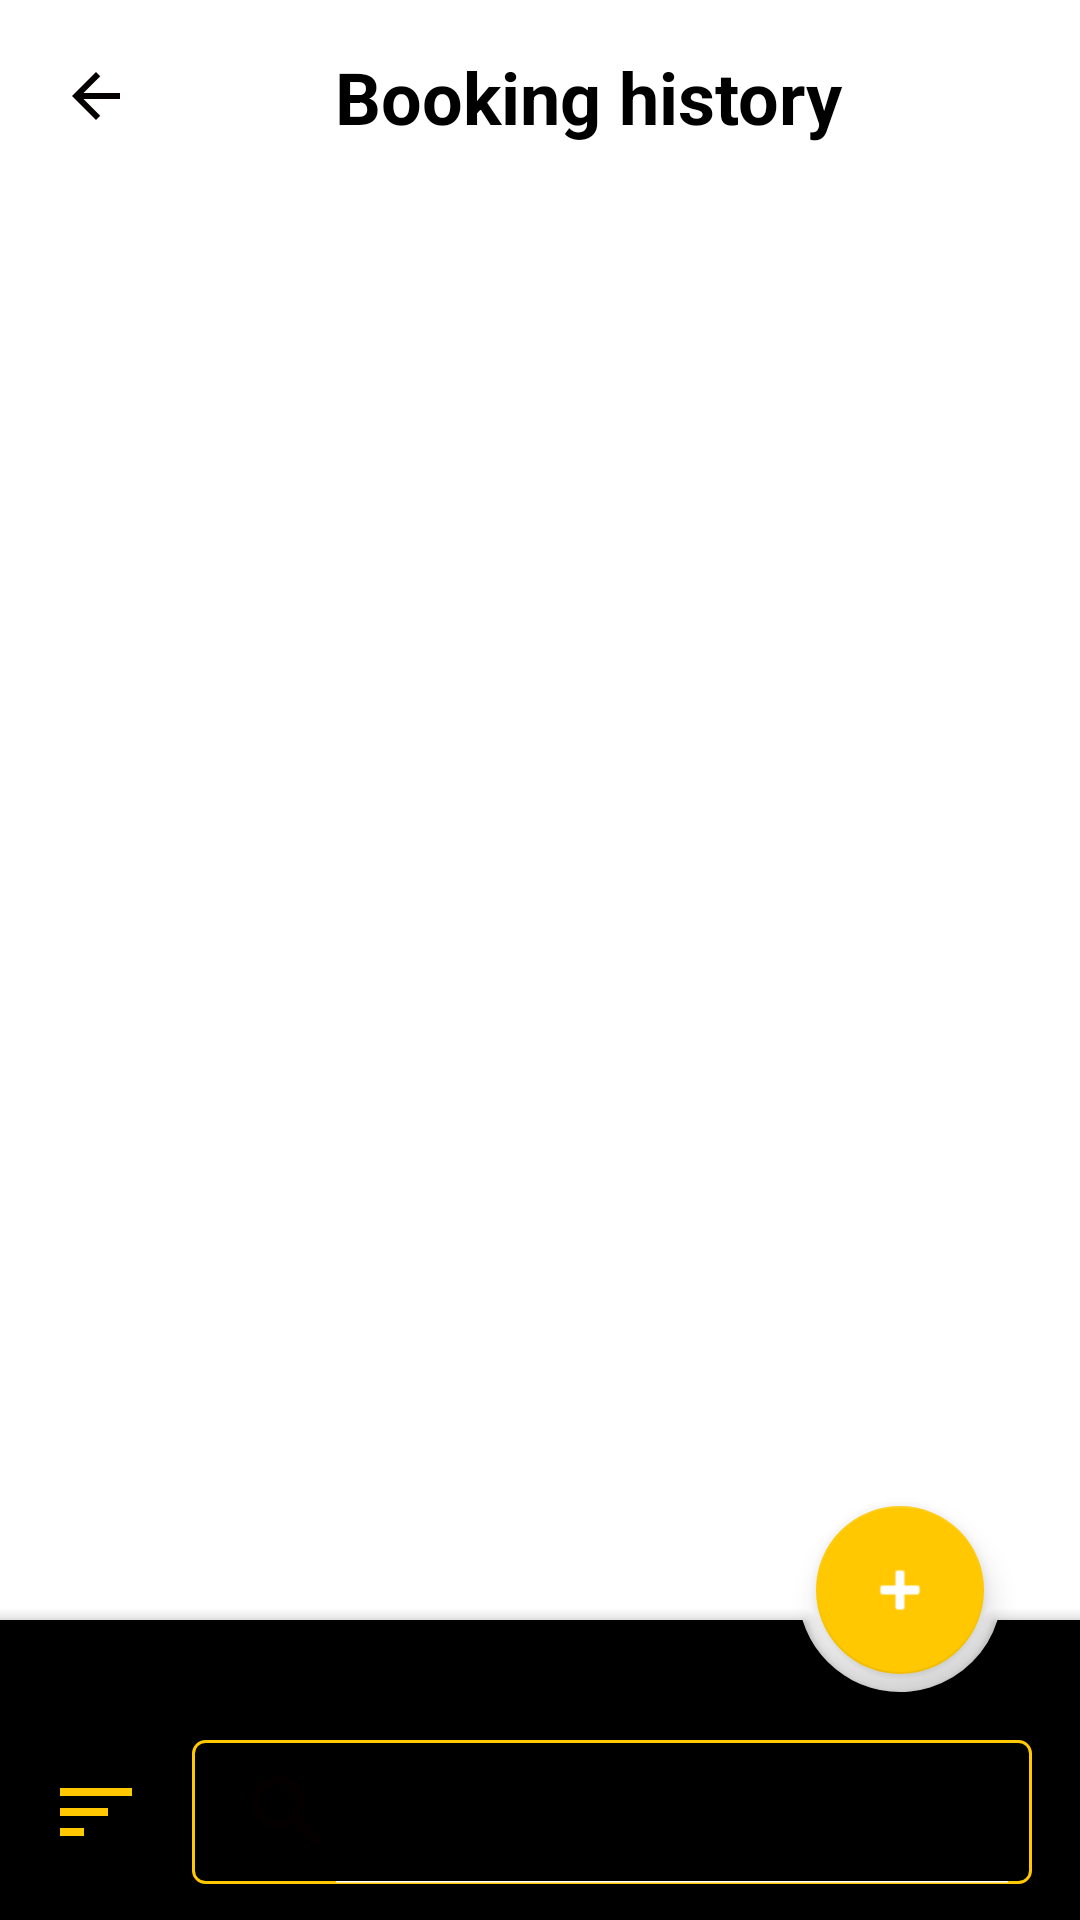

Point at icon controls on the screen. Image size 1080x1920, points as [x,y].
back: [96,96]
sort: [96,1812]
